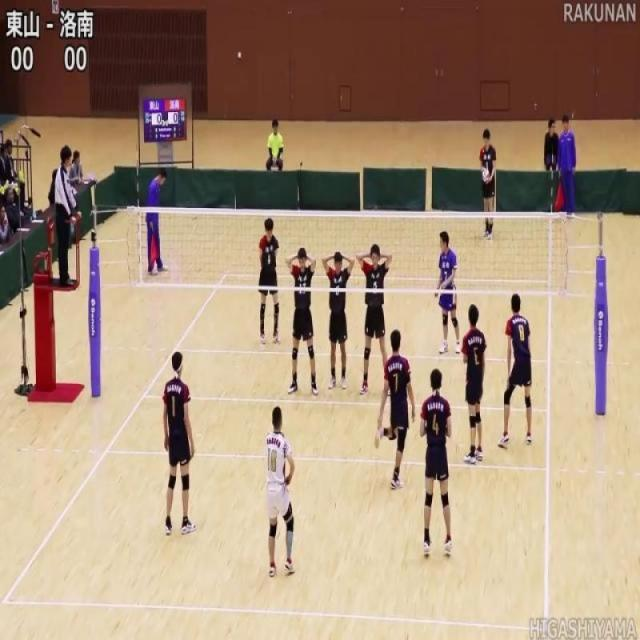volleyball: (481, 167, 491, 183)
